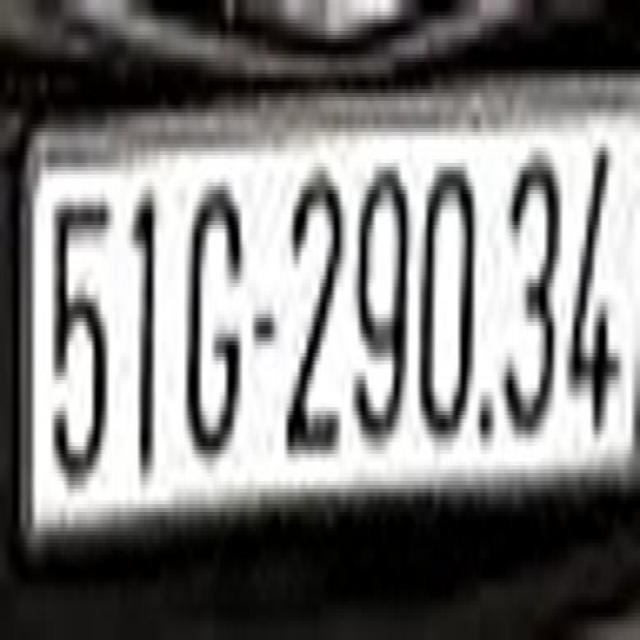0: (417, 148, 477, 438)
1: (126, 178, 161, 485)
2: (283, 143, 346, 466)
3: (496, 124, 562, 446)
4: (566, 109, 624, 422)
5: (48, 159, 112, 493)
9: (353, 147, 411, 450)
G: (182, 144, 243, 477)
